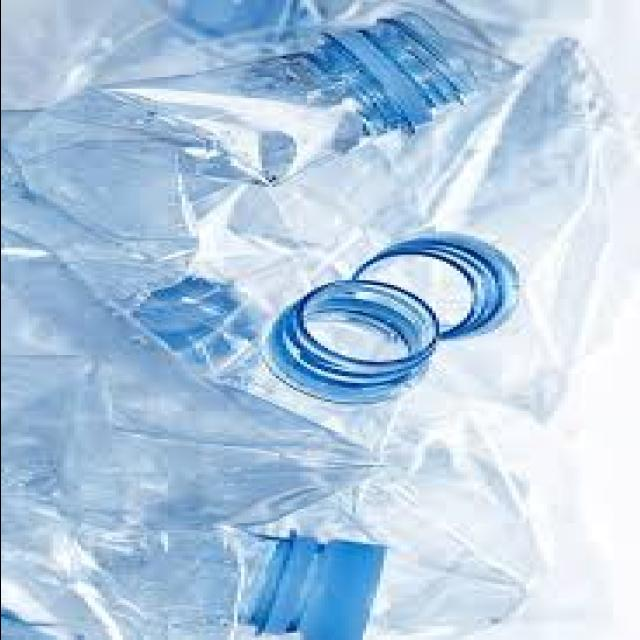cap: (250, 533, 396, 640)
no_cap: (320, 16, 477, 141), (278, 285, 438, 393), (351, 246, 514, 331)
